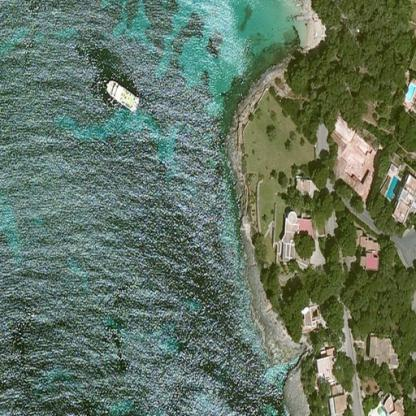ship: (101, 77, 141, 114)
